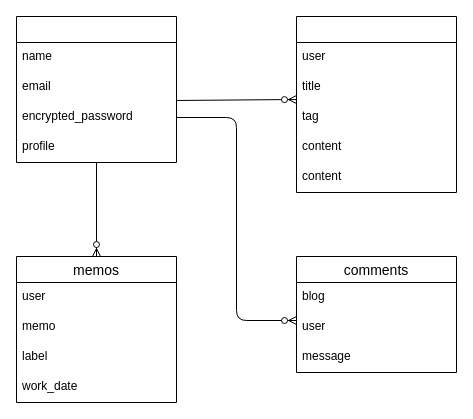
The diagram is 473 pixels wide and 419 high, and some of its shapes have lost their labels. Here are the shapes that lost their labels. From the top down, the box of each, then its label:
(16, 16, 176, 162): users
(296, 16, 456, 192): blogs
